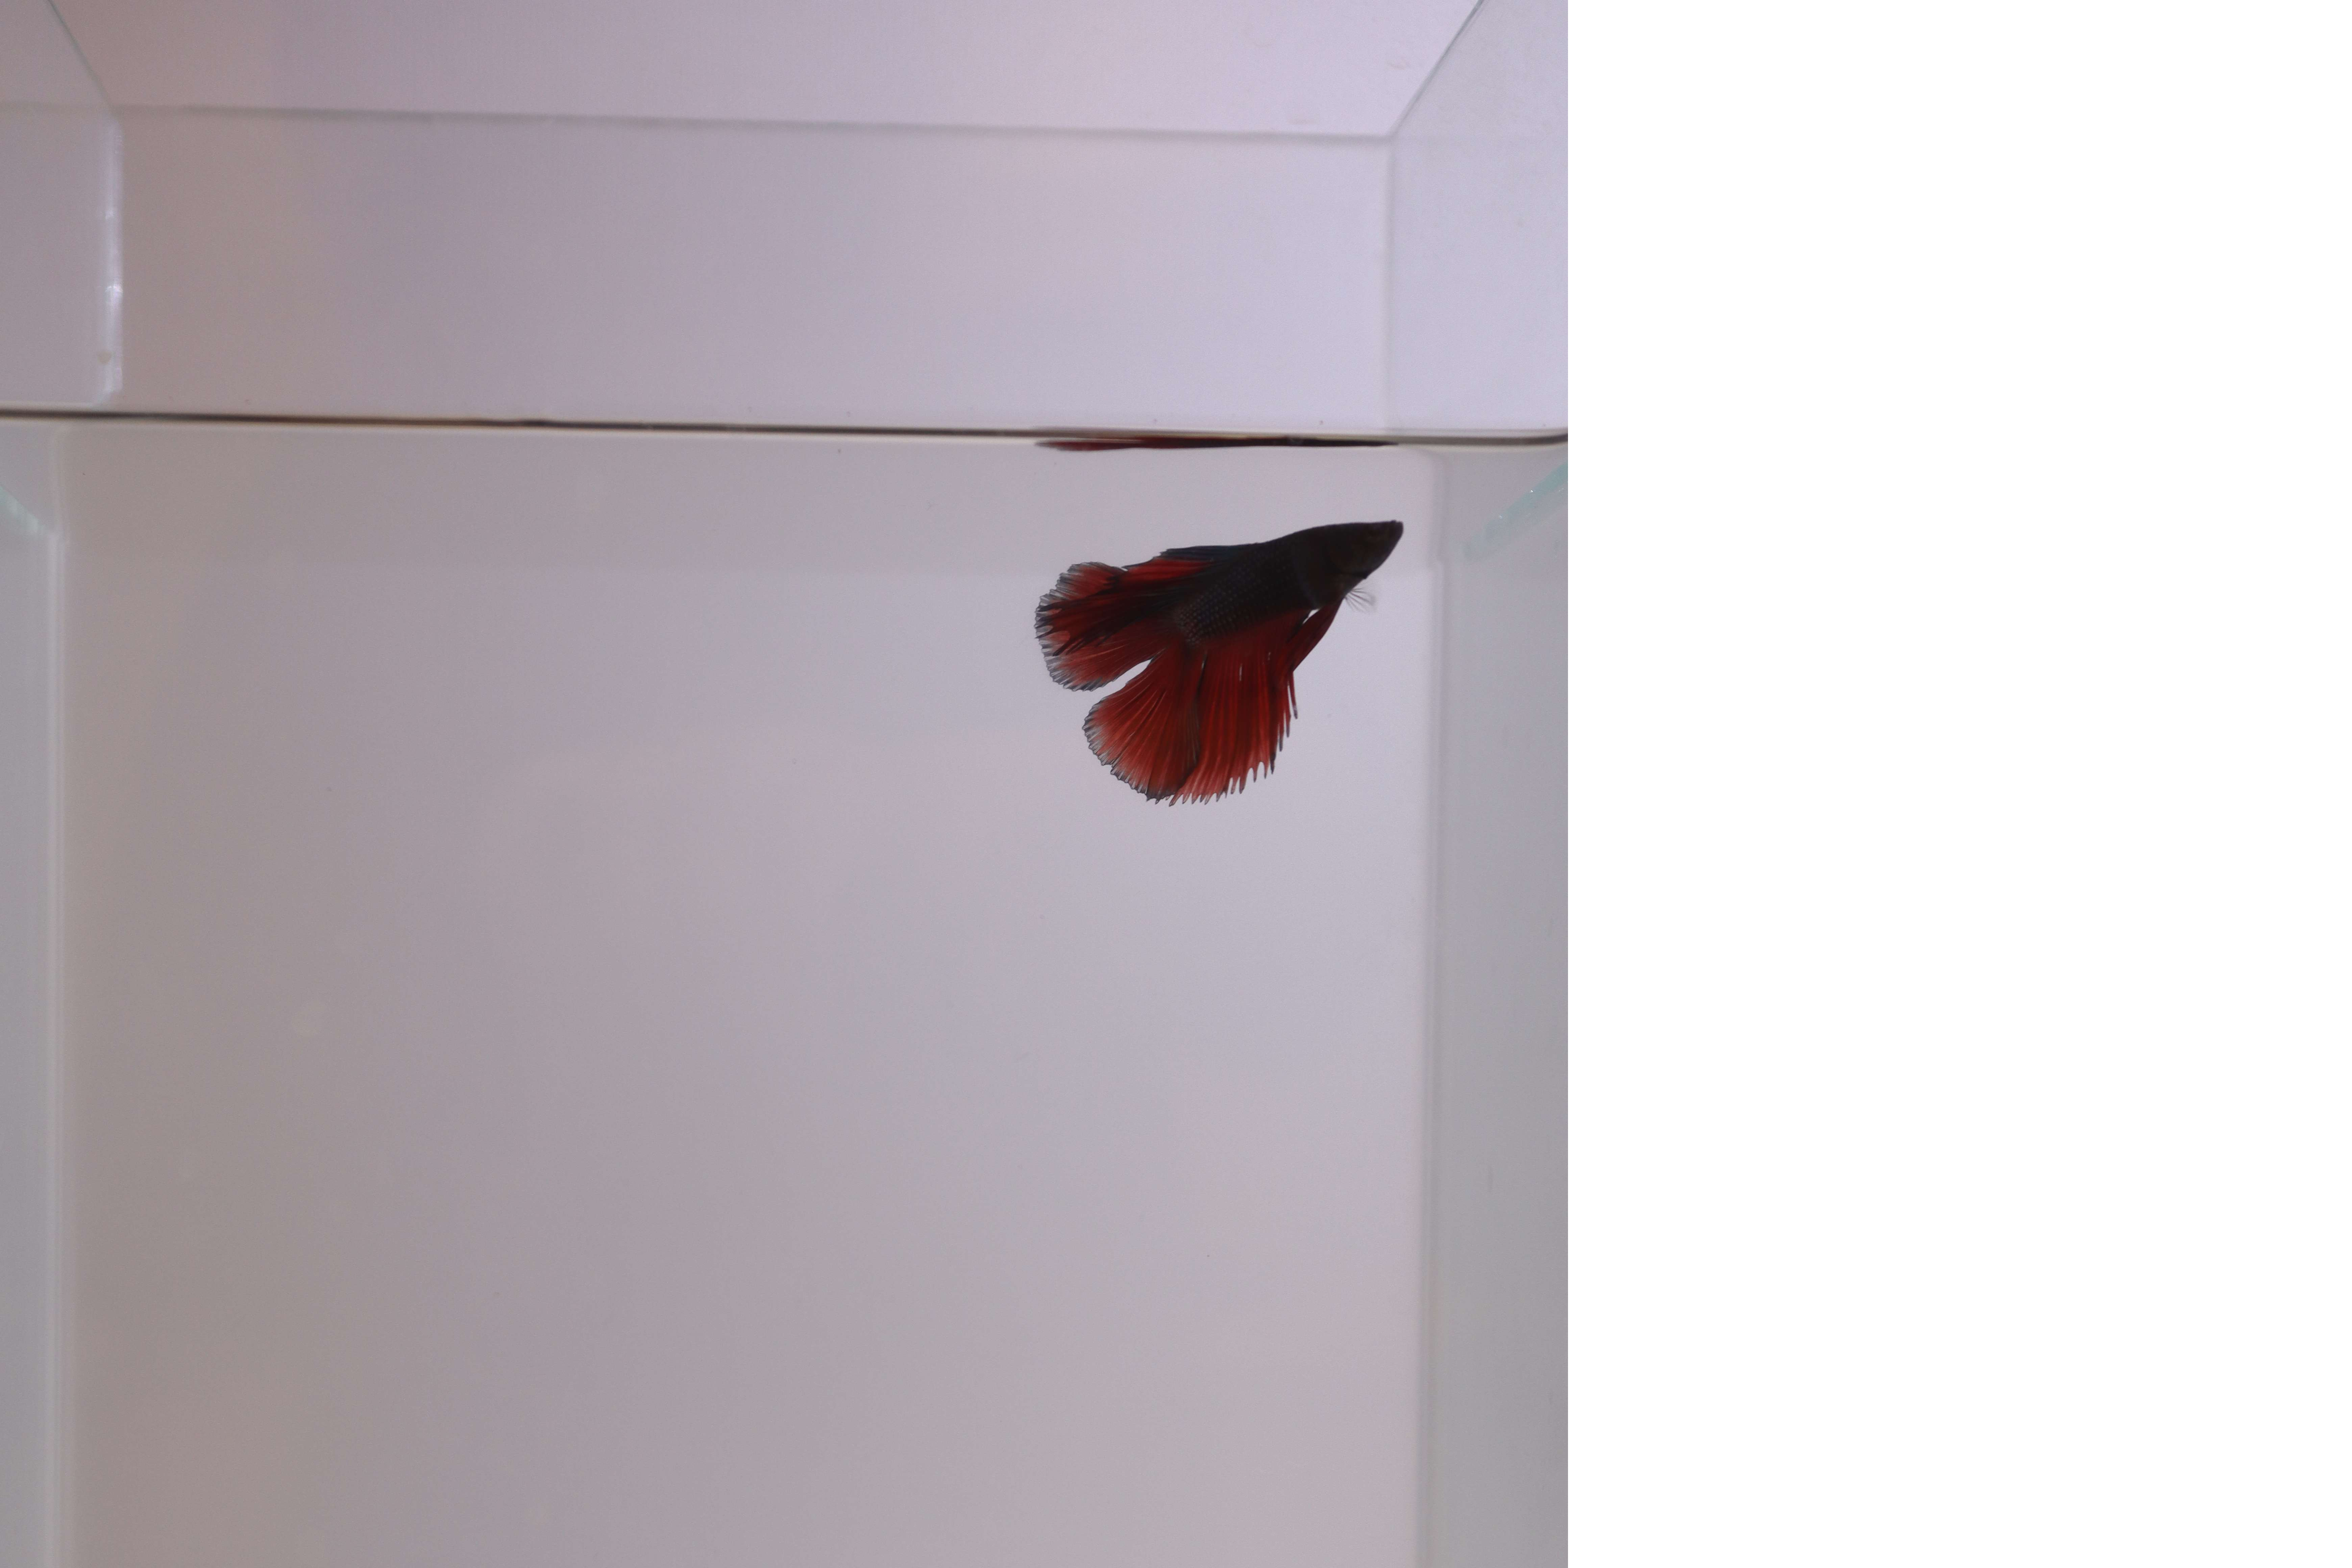fish: (1038, 506, 1404, 800)
